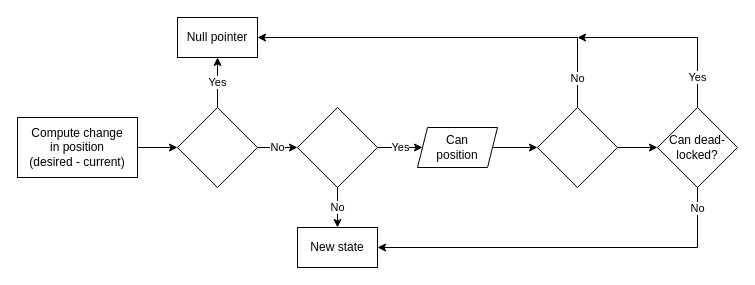
The diagram is 755 pixels wide and 285 high, and some of its shapes have lost their labels. Here are the shapes that lost their labels. From the top down, the box of each, then its label:
(176, 106, 258, 188): Wall blocking?
(296, 106, 378, 188): Can blocking?
(536, 106, 618, 188): Can movable?
